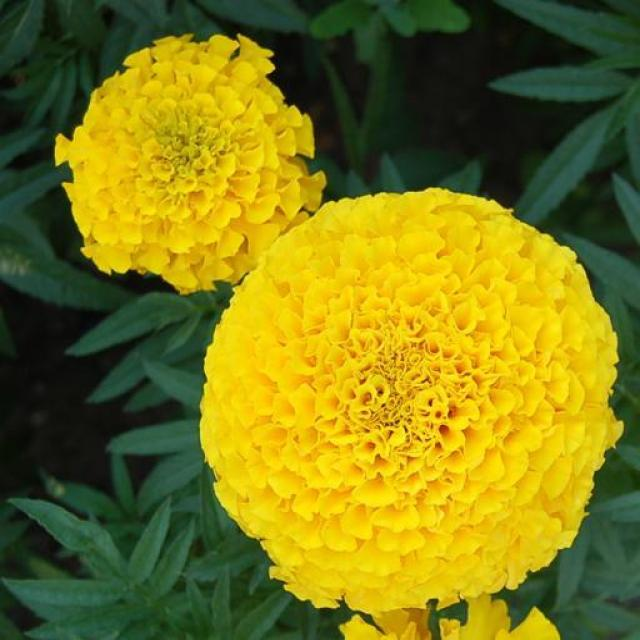marigold: (70, 52, 617, 614)
